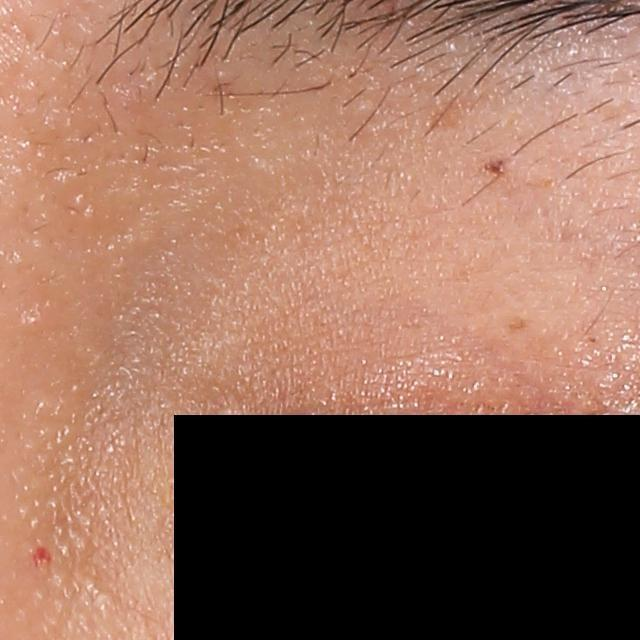nevus: (481, 158, 506, 173)
